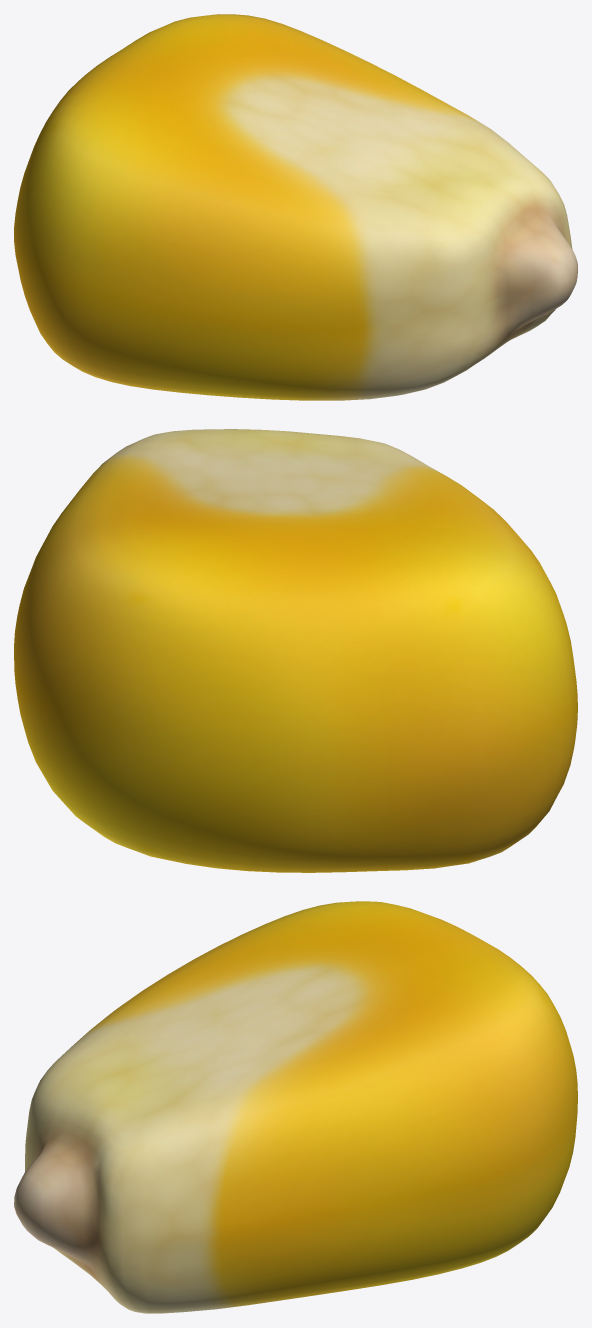
File: Corn.fbx
3 renders of one model, top to bottom at view 1: azimuth 30°, elevation 25°; view 2: azimuth 150°, elevation 25°; view 3: azimuth 270°, elevation 25°, orthographic. The views are drawn at different scales.
Parts seen in each view (by area): view 1: Corn201.001; view 2: Corn201.001; view 3: Corn201.001.
Boxes of the visible parts, box(x1,y1,x2,y2) form: Corn201.001: box(14, 14, 577, 400); Corn201.001: box(14, 429, 577, 872); Corn201.001: box(14, 901, 577, 1313).
Bounding box in the file's own units: 0.9158 × 0.4929 × 0.9372.
